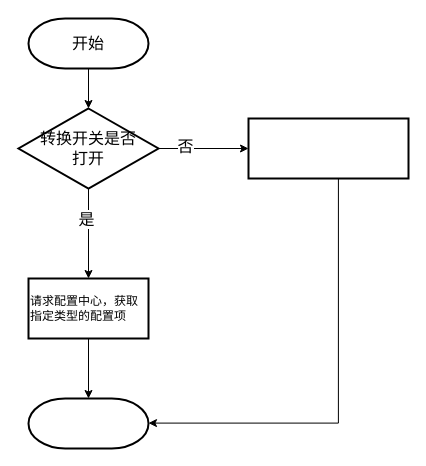
Some shapes in this 426 by 466 pixel diagram are drawn without their labels. The box of each missing label's shape, as (x1, y1, x2, y2) in pixels:
结束: (27, 397, 149, 449)
访问数据字典，获取字典值，得到黑名单员工编号列表: (247, 117, 409, 179)
